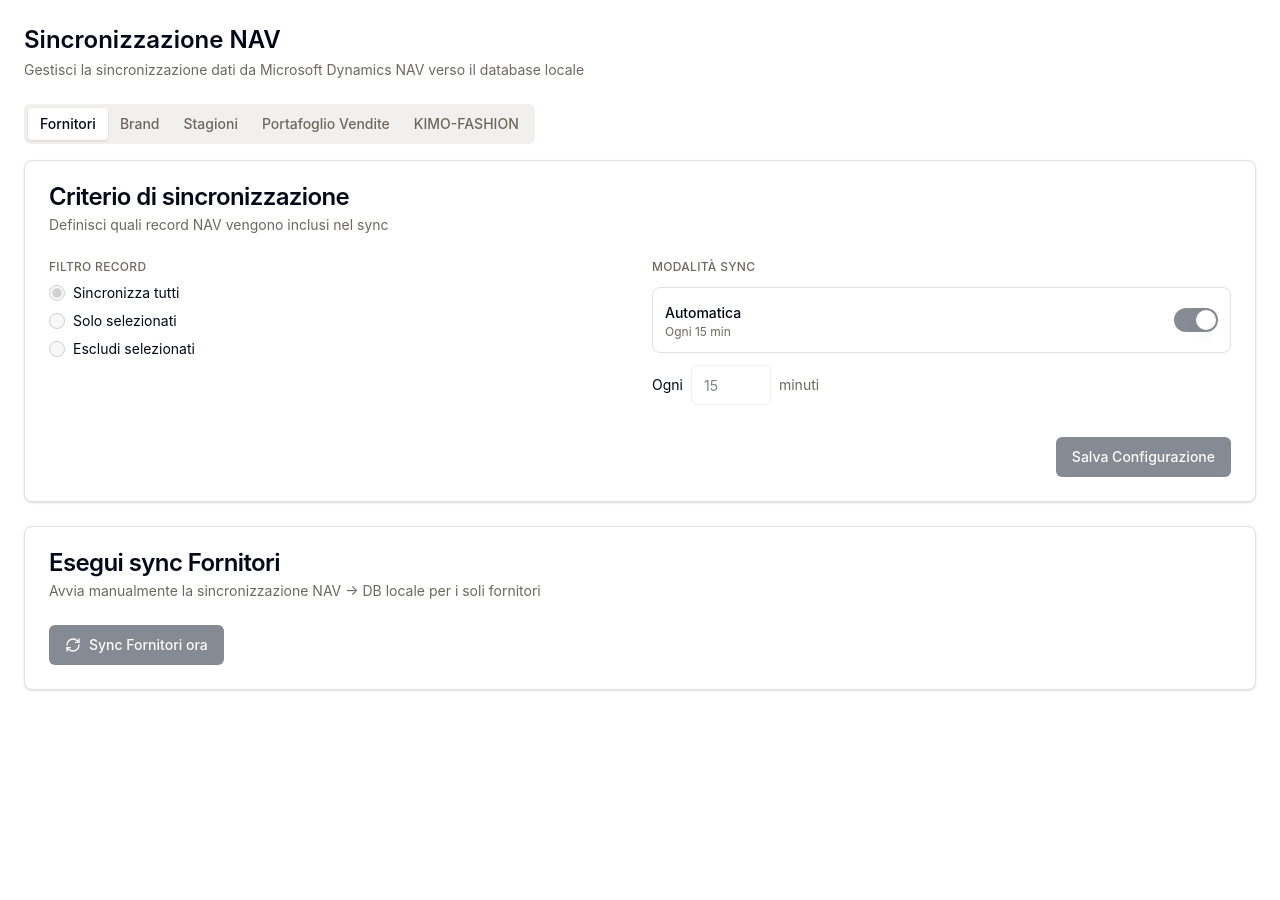
it: NAV sync "Portafoglio Vendite": without config:update the schedule cannot be changed or saved
What coordinates should you click on to do the following:
click the tab "Portafoglio Vendite"
I would click on:
 (326, 124)
Its box is left=250, top=108, right=402, bottom=140.
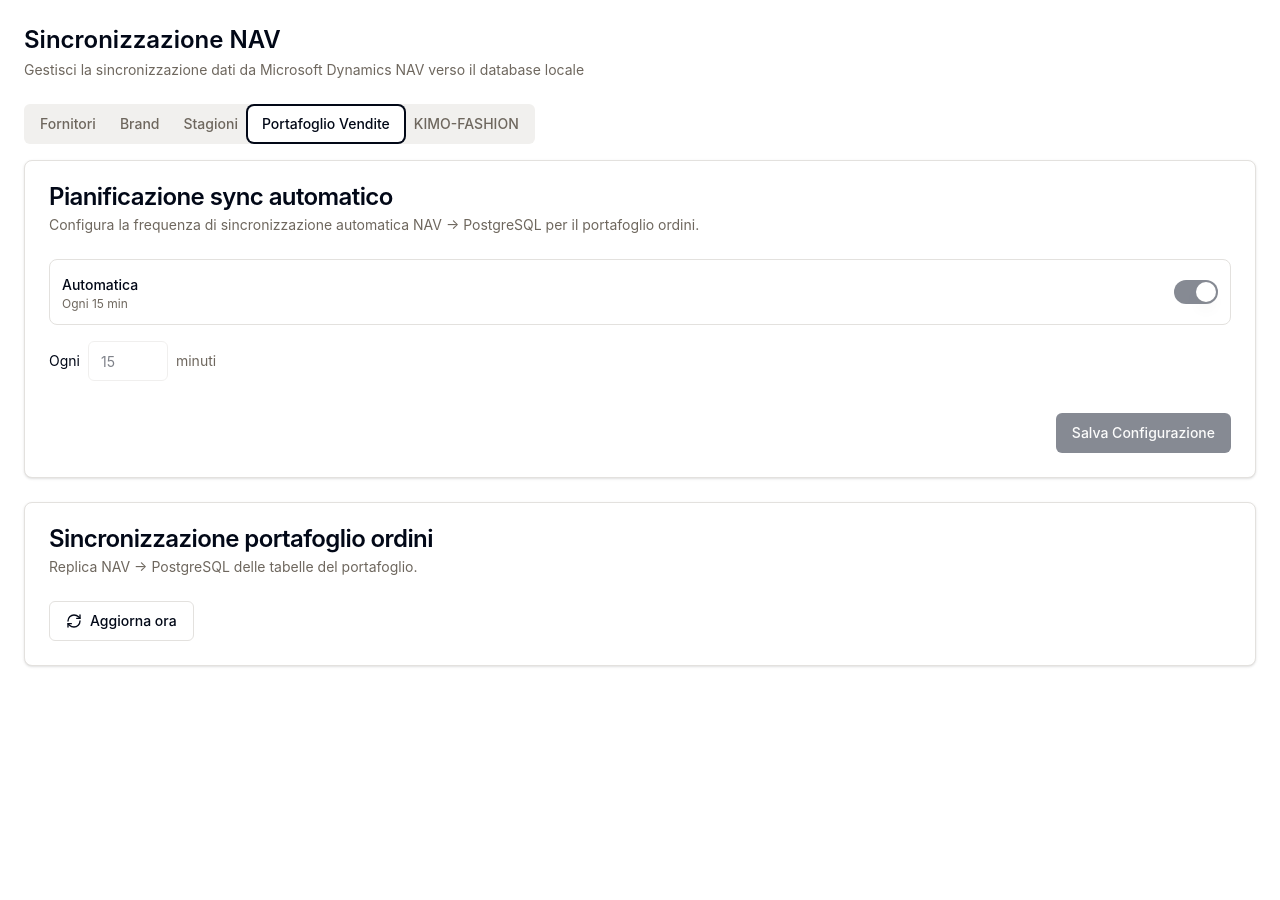
Check: the button "Salva Configurazione" is disabled, box left=1056, top=413, right=1231, bottom=453
Check: the switch named "Automatica" is disabled, box left=1174, top=280, right=1218, bottom=304
